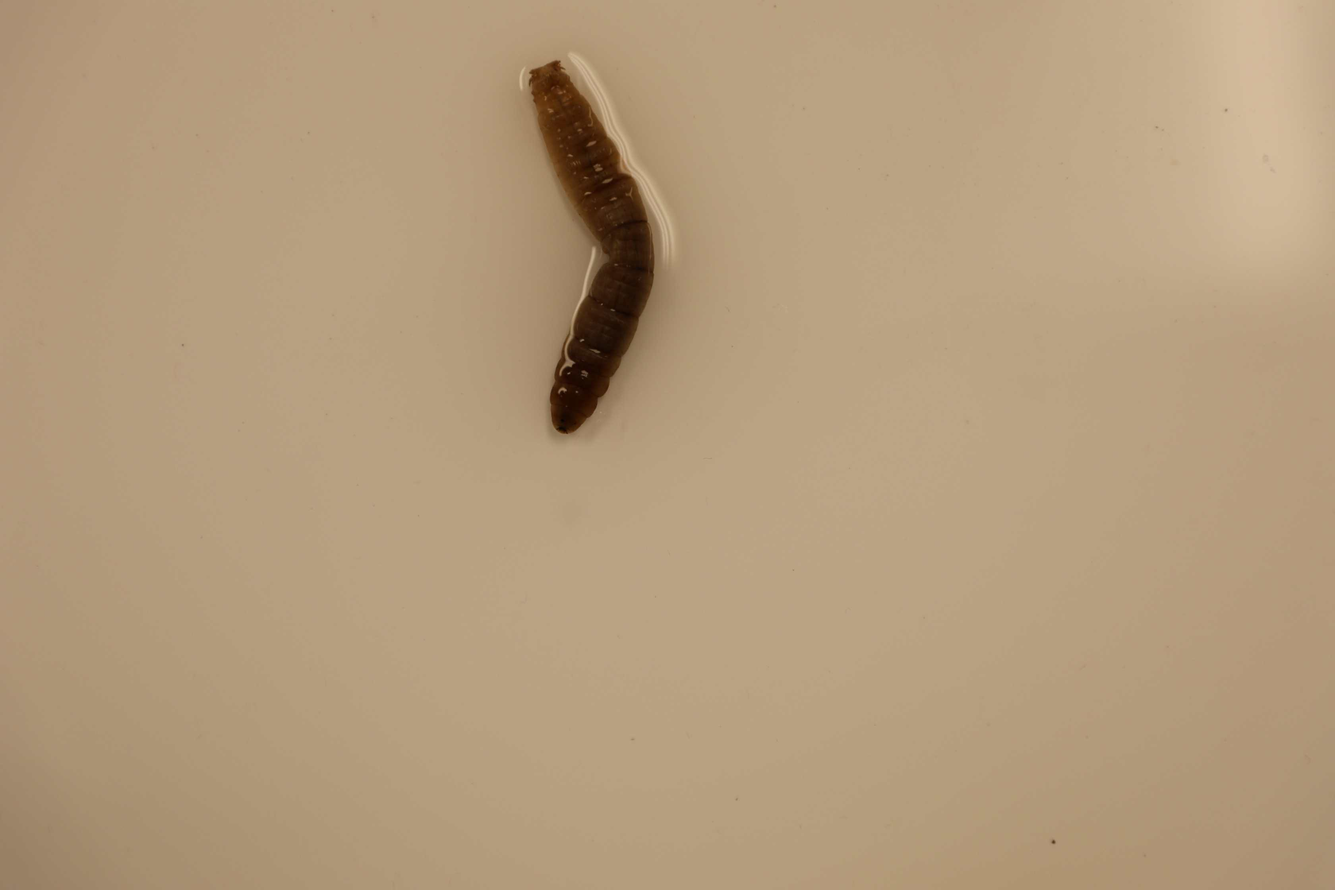Other: (522, 58, 658, 440)
